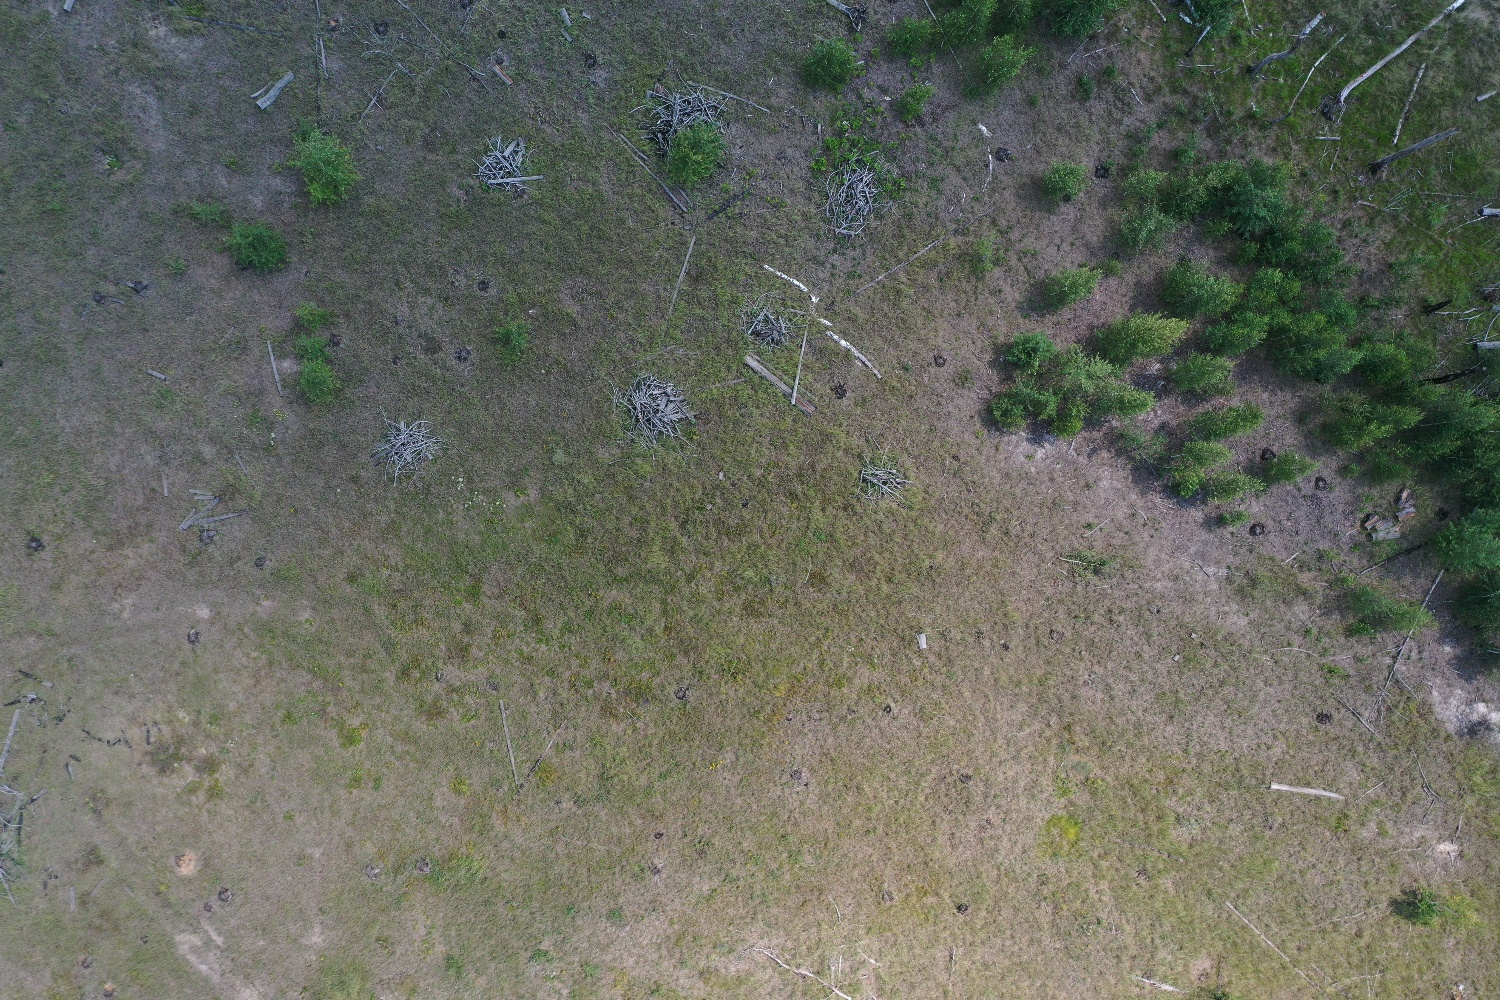branches: (369, 406, 448, 485), (617, 374, 698, 448), (470, 135, 544, 201), (823, 169, 883, 240), (744, 302, 807, 350), (855, 463, 916, 500)
